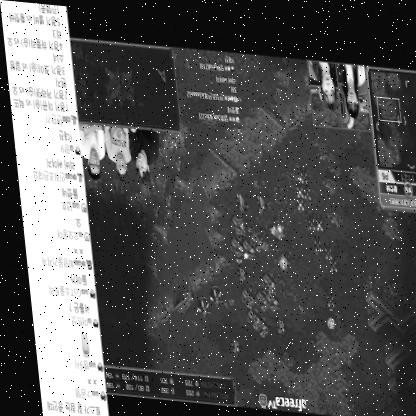streamer: (125, 125, 161, 184), (336, 56, 368, 114), (100, 124, 130, 180), (307, 54, 339, 106), (77, 123, 105, 180)
